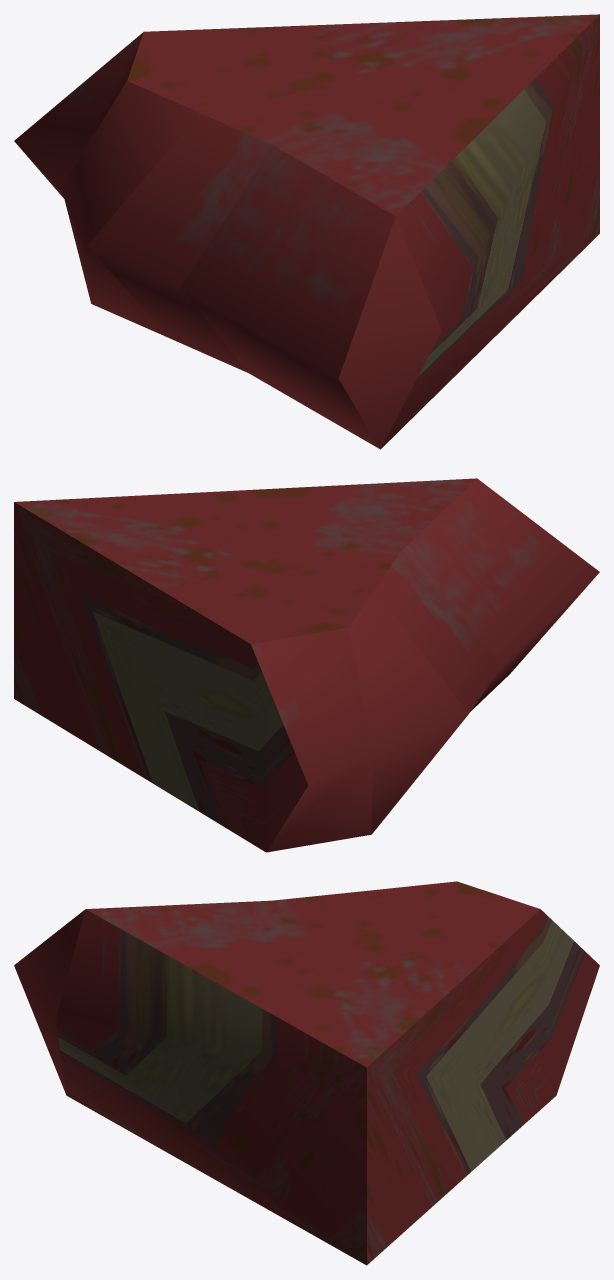
File: ishi_03_04_3.fbx
The picture shows the model from 3 angles, top to bottom: view 1: azimuth 30°, elevation 25°; view 2: azimuth 150°, elevation 25°; view 3: azimuth 270°, elevation 25°; orthographic projection. The views are drawn at different scales.
Visible parts, largest first — view 1: polySurface44; view 2: polySurface44; view 3: polySurface44.
Boxes of the visible parts, x1=… form: polySurface44: x1=14, y1=14, x2=599, y2=449; polySurface44: x1=14, y1=478, x2=599, y2=852; polySurface44: x1=14, y1=881, x2=599, y2=1265.
Bounding box in the file's own units: 12.49 × 5.14 × 13.79.
Materials: 1 (1 with a texture image).
